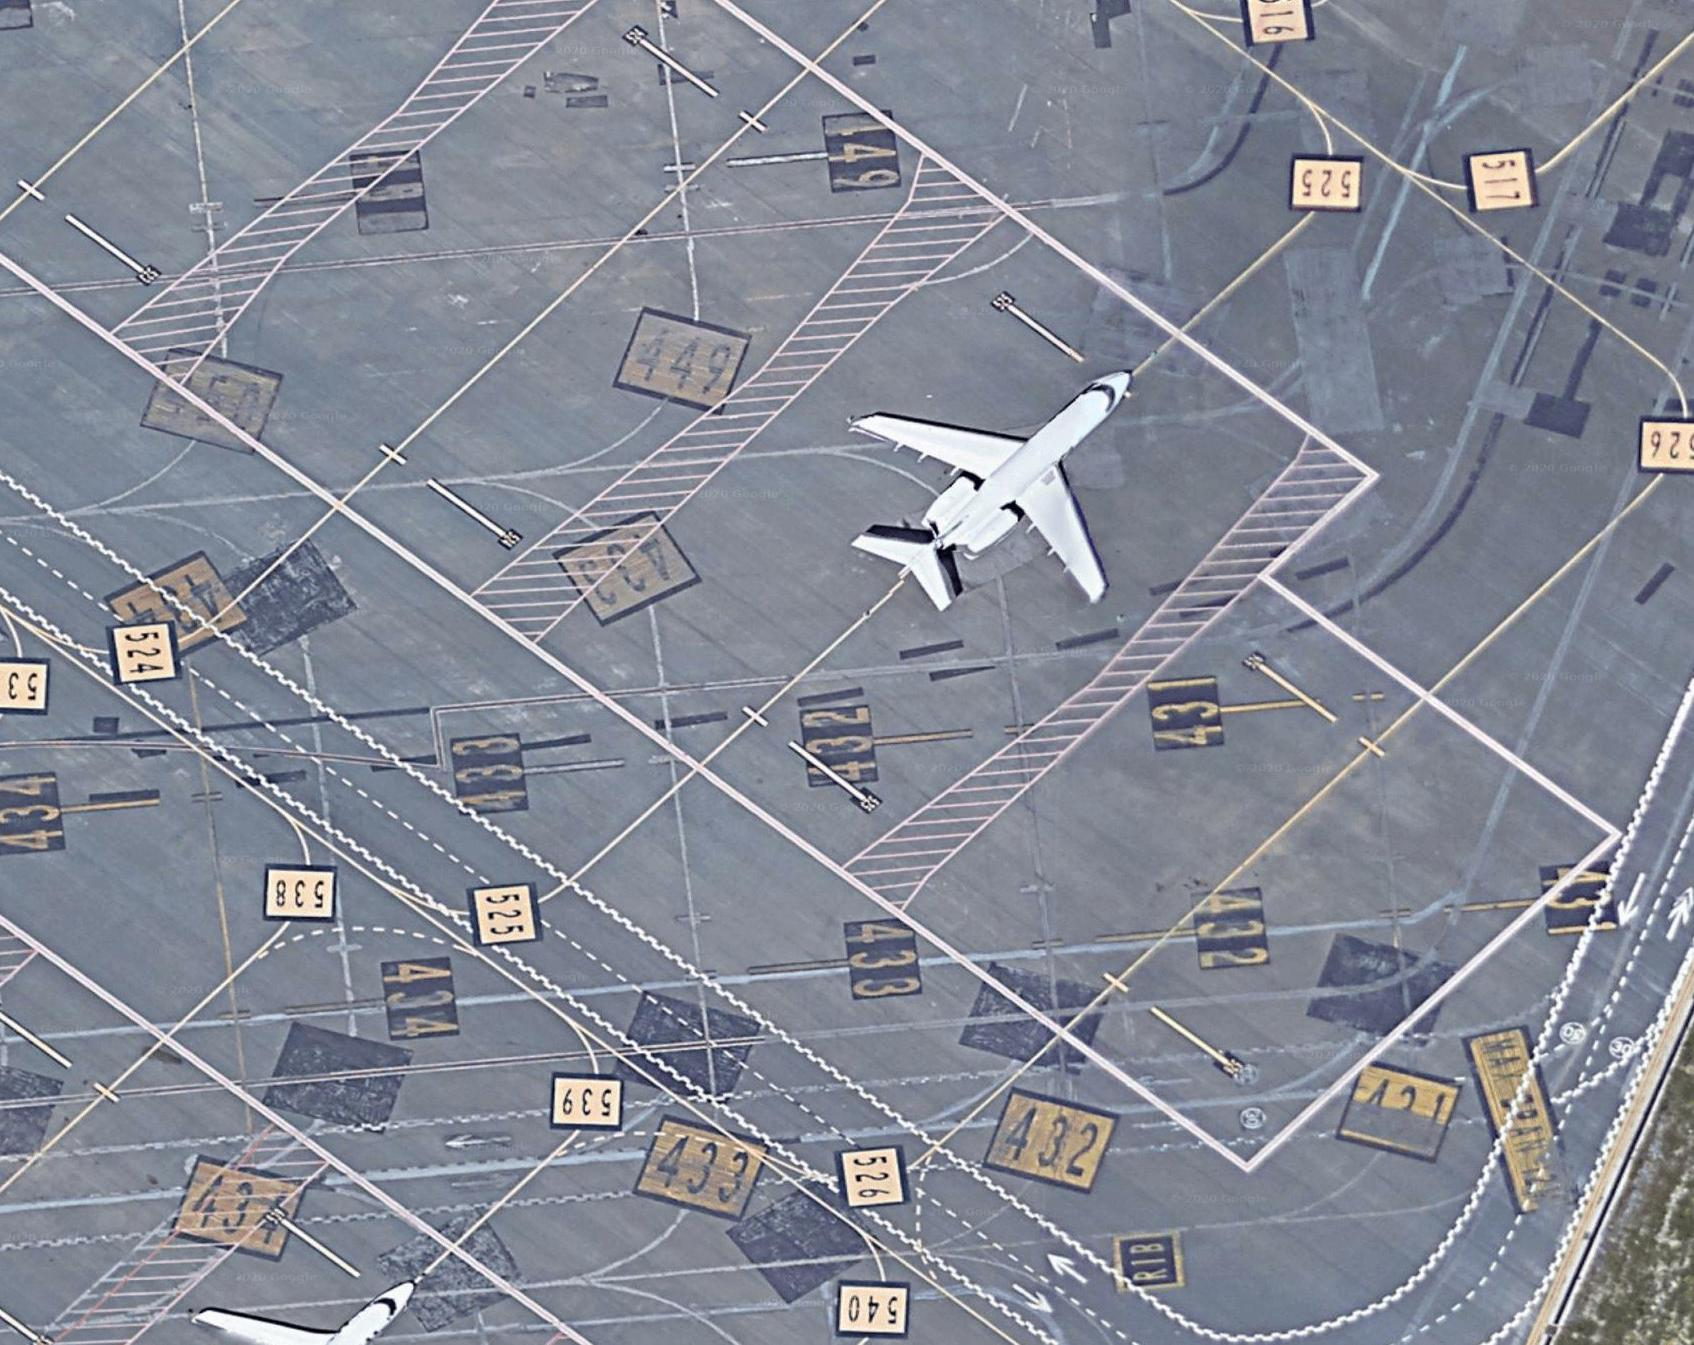plane: (756, 274, 1253, 697)
